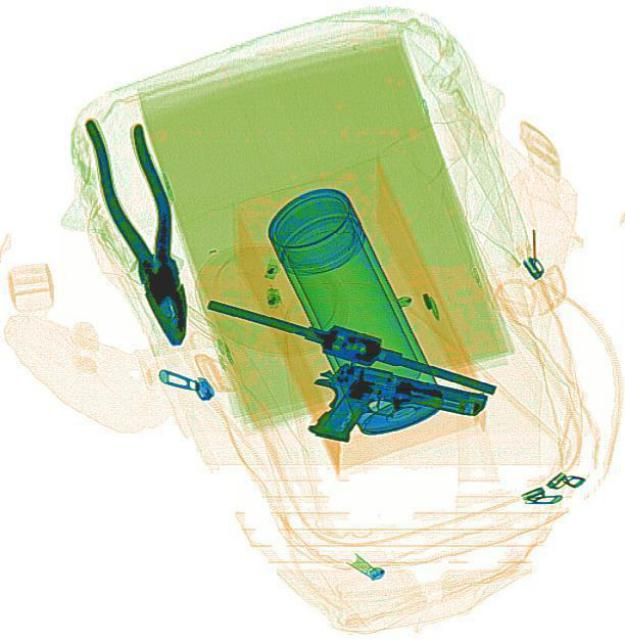Gun: (300, 355, 487, 471)
Pliers: (80, 104, 207, 352)
